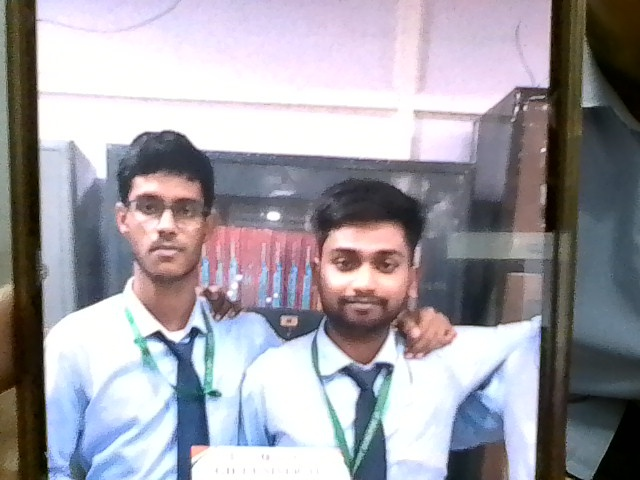real: (313, 190, 422, 344)
